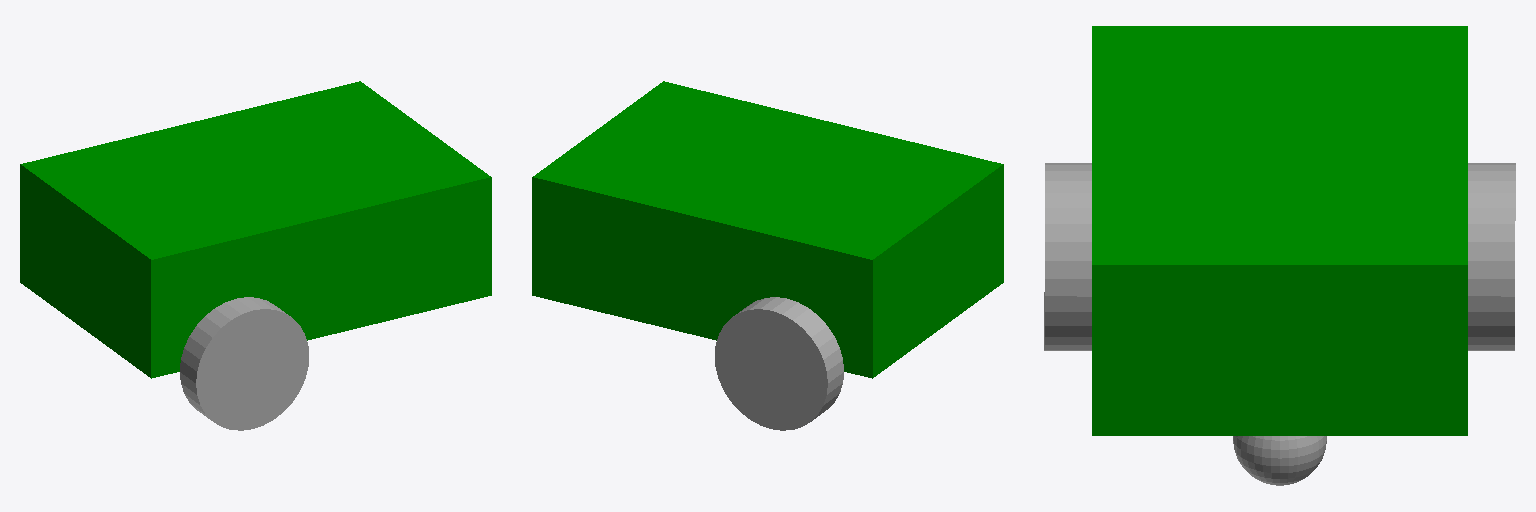
URDF robot description (my_robot):
<?xml version="1.0"?>
<robot name="my_robot">

    <material name="green">
        <color rgba="0 0.6 0 1" />
    </material>

    <material name="gray">
        <color rgba="0.7 0.7 0.7 1" />
    </material>

    <link name="base_footprint" />

    <link name="base_link">
        <visual>
            <geometry>
                <box size="0.6 0.4 0.2" />
            </geometry>
            <origin xyz="0 0 0.1" rpy="0 0 0" />
            <material name="green" />
        </visual>
        <collision>
            <origin xyz="0 0 0.1" rpy="0 0 0" />
            <geometry>
                <box size="0.6 0.4 0.2" />
            </geometry>
        </collision>
        <inertial>
            <origin xyz="0 0 0.1" rpy="0 0 0" />
            <mass value="10" />
            <inertia ixx="0.183" ixy="0" ixz="0" iyy="0.333" iyz="0" izz="0.5" />
        </inertial>
    </link>
    
    <link name="right_wheel_link">
        <visual>
            <geometry>
                <cylinder radius="0.1" length="0.05" />
            </geometry>
            <origin xyz="0 0 0" rpy="1.57 0 0" />
            <material name="gray" />
        </visual>
        <collision>
            <origin xyz="0 0 0" rpy="1.57 0 0" />
            <geometry>
                <cylinder radius="0.1" length="0.05" />
            </geometry>
        </collision>
        <inertial>
            <origin xyz="0 0 0" rpy="1.57 0 0" />
            <mass value="1" />
            <inertia ixx="0.002708" ixy="0" ixz="0" iyy="0.005" iyz="0" izz="0.002708" />
        </inertial> 
    </link>

    <link name="left_wheel_link">
        <visual>
            <geometry>
                <cylinder radius="0.1" length="0.05" />
            </geometry>
            <origin xyz="0 0 0" rpy="1.57 0 0" />
            <material name="gray" />
        </visual>
        <collision>
            <origin xyz="0 0 0" rpy="1.57 0 0" />
            <geometry>
                <cylinder radius="0.1" length="0.05" />
            </geometry>
        </collision>
        <inertial>
            <origin xyz="0 0 0" rpy="1.57 0 0" />
            <mass value="1" />
            <inertia ixx="0.002708" ixy="0" ixz="0" iyy="0.005" iyz="0" izz="0.002708" />
        </inertial>
    </link>

    <link name="caster_wheel_link">
        <visual>
            <geometry>
                <sphere radius="0.05" />
            </geometry>
            <origin xyz="0 0 0" rpy="0 0 0" />
            <material name="gray" />
        </visual>
        <collision>
            <origin xyz="0 0 0" rpy="0 0 0" />
            <geometry>
                <sphere radius="0.05" />
            </geometry>
        </collision>
        <inertial>
            <origin xyz="0 0 0" rpy="0 0 0" />
            <mass value="1.0" />
            <inertia ixx="0.001" ixy="0" ixz="0" iyy="0.001" iyz="0" izz="0.001" />
        </inertial>
    </link>

    <joint name="base_joint" type="fixed">
        <parent link="base_footprint" />
        <child link="base_link" />
        <origin xyz="0 0 0.1" rpy="0 0 0" />
    </joint>

    <joint name="base_right_wheel_joint" type="continuous">
        <parent link="base_link" />
        <child link="right_wheel_link" />
        <origin xyz="-0.15 -0.225 0" rpy="0 0 0" />
        <axis xyz="0 1 0" />
    </joint>

    <joint name="base_left_wheel_joint" type="continuous">
        <parent link="base_link" />
        <child link="left_wheel_link" />
        <origin xyz="-0.15 0.225 0" rpy="0 0 0" />
        <axis xyz="0 1 0" />
    </joint>

    <joint name="base_caster_wheel_joint" type="fixed">
        <parent link="base_link" />
        <child link="caster_wheel_link" />
        <origin xyz="0.2 0 -0.05" rpy="0 0 0" />
    </joint>

</robot>

--- Facts derived from the render (not from the file) ---
3 views of the same robot in one strip: view 1: azimuth 30°, elevation 25°; view 2: azimuth 150°, elevation 25°; view 3: azimuth 270°, elevation 25° (orthographic).
Model my_robot with 5 links and 4 joints (2 continuous, 2 fixed), rooted at base_footprint, posed all joints at 0.
Links seen in each view (by area): view 1: base_link, right_wheel_link; view 2: base_link, left_wheel_link; view 3: base_link, right_wheel_link, left_wheel_link, caster_wheel_link.
Link boxes in pixels (x1,y1,x2,y2): base_link: (20, 81, 491, 378); right_wheel_link: (180, 297, 308, 430); base_link: (532, 81, 1003, 378); left_wheel_link: (715, 297, 843, 430); base_link: (1092, 26, 1467, 435); right_wheel_link: (1044, 163, 1091, 350); left_wheel_link: (1468, 163, 1515, 350); caster_wheel_link: (1233, 436, 1326, 485).
Bounding box of the posed robot: 0.6 × 0.5002 × 0.3 m (x, y, z).
Geometry: primitives only (box / cylinder / sphere), no mesh files.